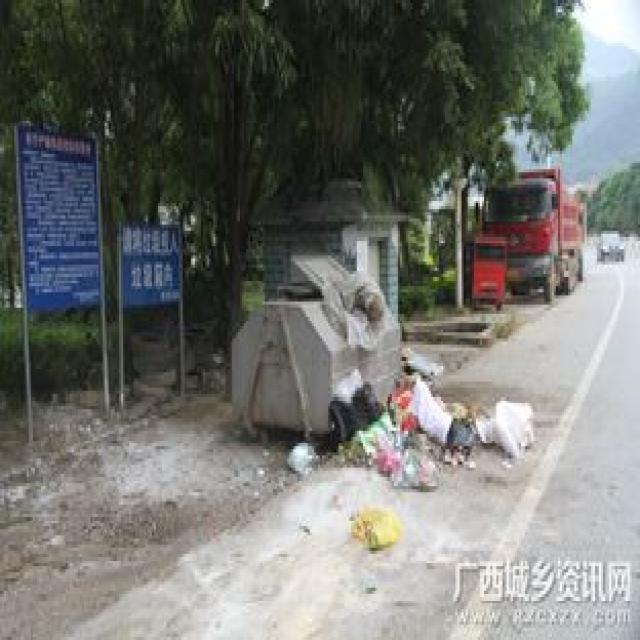garbage: (327, 377, 536, 492), (346, 508, 404, 550), (281, 437, 322, 486)
